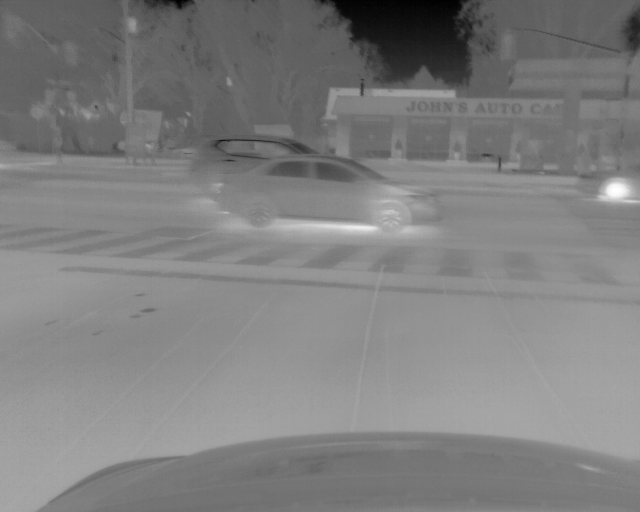car: (219, 153, 441, 234), (190, 136, 322, 199), (573, 165, 640, 203)
